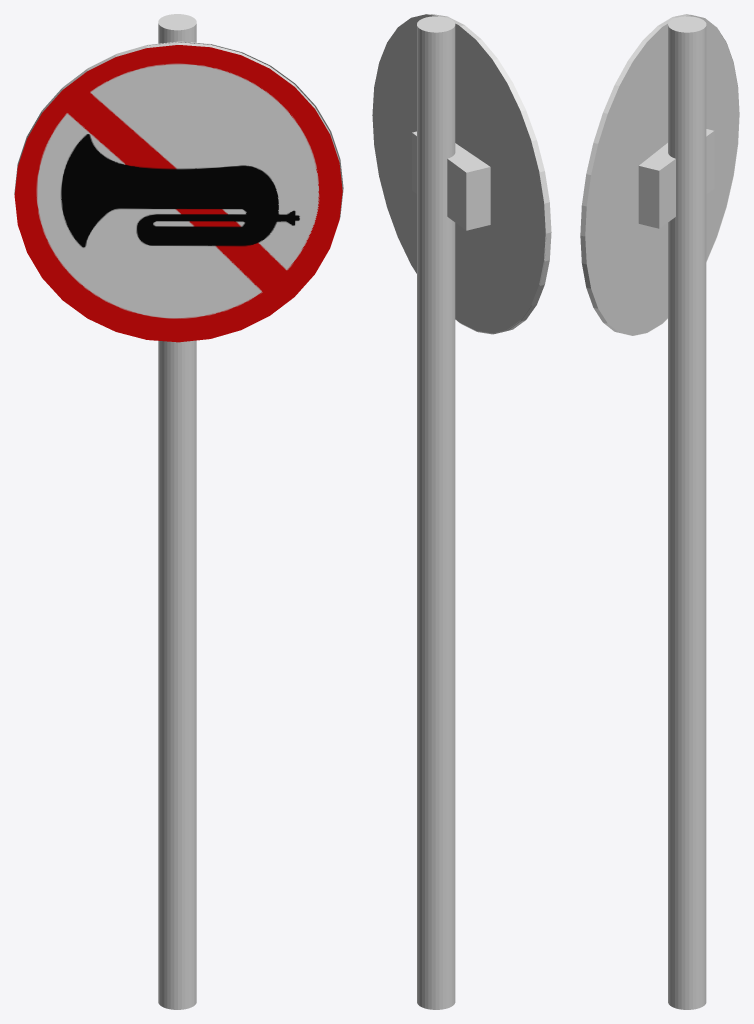
The model's file is LarangKlakson.fbx.
3 renders of one model, left to right at view 1: azimuth 30°, elevation 25°; view 2: azimuth 150°, elevation 25°; view 3: azimuth 270°, elevation 25°, orthographic.
Parts seen in each view (by area): view 1: Cylinder.001, Cylinder; view 2: Cylinder, Cylinder.001, Cube; view 3: Cylinder, Cylinder.001, Cube.
Boxes of the visible parts, x1,y1,x2,y2 form: Cylinder.001: [14, 41, 343, 342]; Cylinder: [158, 14, 196, 1009]; Cylinder: [417, 16, 455, 1009]; Cylinder.001: [372, 14, 551, 334]; Cube: [412, 131, 490, 230]; Cylinder: [668, 16, 706, 1009]; Cylinder.001: [580, 14, 739, 335]; Cube: [638, 129, 714, 228].
Bounding box in the file's own units: 197 × 727 × 107.
Materials: 2 (1 with a texture image).
